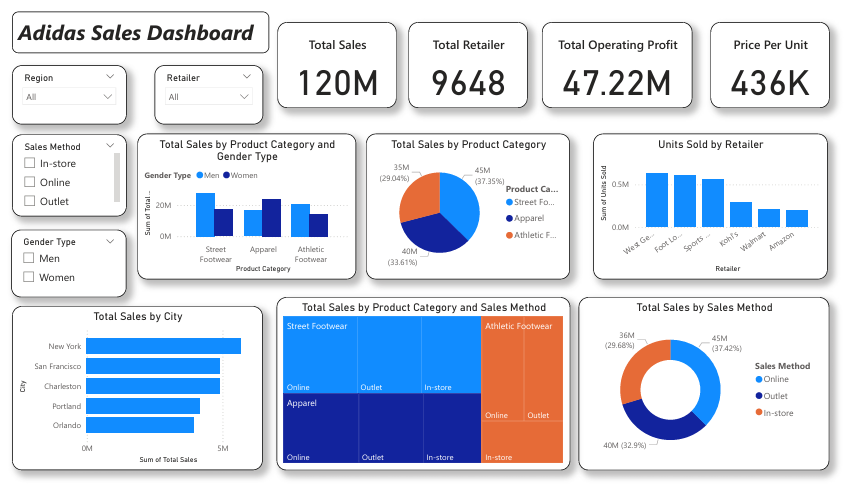

The page's visual inventory and layout, read from the dashboard file:
{"tool":"powerbi","page":{"name":"Page 1","canvas":[1280,720],"ordinal":0},"visuals":[{"type":"textbox","box":[10.2,0,395.1,64.4],"z":0},{"type":"slicer","fields":{"Values":["Sales_details.Region"]},"box":[10.2,82,175.6,90.7],"z":1000},{"type":"slicer","fields":{"Values":["Sales_details.Gender Type"]},"box":[8.8,335.1,177.1,103.9],"z":2000},{"type":"pieChart","title":"Total Sales by Product Category","fields":{"Category":["Sales_details.Product Category"],"Y":["Sum(Sales_details.Total Sales)"]},"box":[553.7,188.1,313.4,223.9],"z":3000},{"type":"card","title":"Total Sales","fields":{"Values":["Sum(Sales_details.Total Sales)"]},"box":[417.1,16.1,182.9,131.7],"z":4000},{"type":"card","title":"Total Retailer","fields":{"Values":["CountNonNull(Sales_details.Retailer ID)"]},"box":[619,16.1,182.9,131.7],"z":5000},{"type":"card","title":"Total Operating Profit","fields":{"Values":["Sum(Sales_details.Operating Profit)"]},"box":[823.9,16.1,231.2,131.7],"z":6000},{"type":"card","title":"Price Per Unit","fields":{"Values":["Sum(Sales_details.Price per Unit)"]},"box":[1082.9,16.1,182.9,131.7],"z":7000},{"type":"donutChart","title":"Total Sales by Sales Method","fields":{"Category":["Sales_details.Sales Method"],"Y":["Sum(Sales_details.Total Sales)"]},"box":[880.6,438.8,385.1,265.7],"z":8000},{"type":"slicer","fields":{"Values":["Sales_details.Sales Method"]},"box":[10.2,188.8,175.6,125.9],"z":9000},{"type":"slicer","fields":{"Values":["Sales_details.Retailer"]},"box":[228.3,82,166.8,90.7],"z":10000},{"type":"lineStackedColumnComboChart","title":"Units Sold by Retailer","fields":{"Category":["Sales_details.Retailer"],"Y":["Sum(Sales_details.Units Sold)"]},"box":[903,188.1,359.7,223.9],"z":11000},{"type":"barChart","title":"Total Sales by City","fields":{"Category":["Sales_details.City"],"Y":["Sum(Sales_details.Total Sales)"]},"box":[10.4,452.2,385.1,252.2],"z":12000},{"type":"clusteredColumnChart","title":"Total Sales by Product Category and Gender Type","fields":{"Category":["Sales_details.Product Category"],"Y":["Sum(Sales_details.Total Sales)"],"Series":["Sales_details.Gender Type"]},"box":[203,188.1,335.8,223.9],"z":13000},{"type":"treemap","title":"Total Sales by Product Category and Sales Method","fields":{"Group":["Sales_details.Product Category"],"Details":["Sales_details.Sales Method"],"Values":["Sum(Sales_details.Total Sales)"]},"box":[416.4,438.8,450.7,265.7],"z":14000}]}

Visuals, with their boxes in screenshot pixels (x1, y1, x2, y2), scaled from the page's 1280x720 canvas onto the 848x491 screenshot:
textbox: [x1=7, y1=0, x2=269, y2=44]
slicer - Sales_details.Region: [x1=7, y1=56, x2=123, y2=118]
slicer - Sales_details.Gender Type: [x1=6, y1=229, x2=123, y2=299]
"Total Sales by Product Category" pieChart: [x1=367, y1=128, x2=574, y2=281]
"Total Sales" card: [x1=276, y1=11, x2=398, y2=101]
"Total Retailer" card: [x1=410, y1=11, x2=531, y2=101]
"Total Operating Profit" card: [x1=546, y1=11, x2=699, y2=101]
"Price Per Unit" card: [x1=717, y1=11, x2=839, y2=101]
"Total Sales by Sales Method" donutChart: [x1=583, y1=299, x2=839, y2=480]
slicer - Sales_details.Sales Method: [x1=7, y1=129, x2=123, y2=215]
slicer - Sales_details.Retailer: [x1=151, y1=56, x2=262, y2=118]
"Units Sold by Retailer" lineStackedColumnComboChart: [x1=598, y1=128, x2=837, y2=281]
"Total Sales by City" barChart: [x1=7, y1=308, x2=262, y2=480]
"Total Sales by Product Category and Gender Type" clusteredColumnChart: [x1=134, y1=128, x2=357, y2=281]
"Total Sales by Product Category and Sales Method" treemap: [x1=276, y1=299, x2=574, y2=480]
